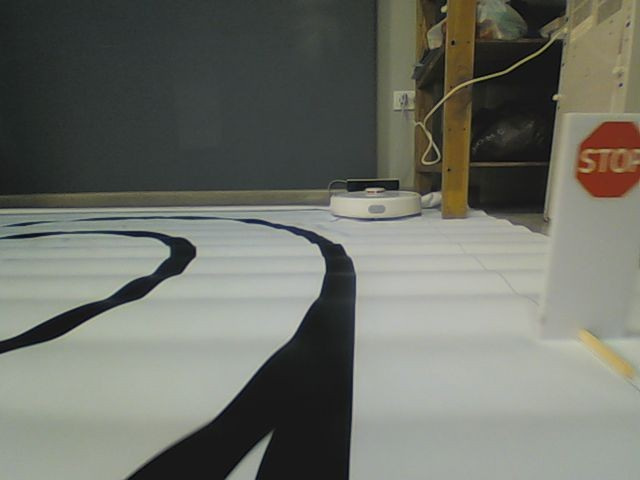Stop: (576, 119, 640, 198)
